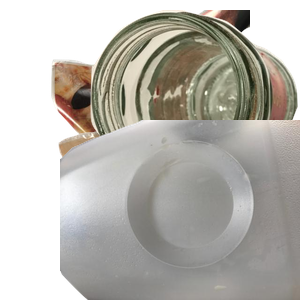glass: (90, 10, 300, 184)
paper: (49, 10, 289, 190)
plastic: (60, 120, 300, 300)
trash: (56, 120, 229, 300)
